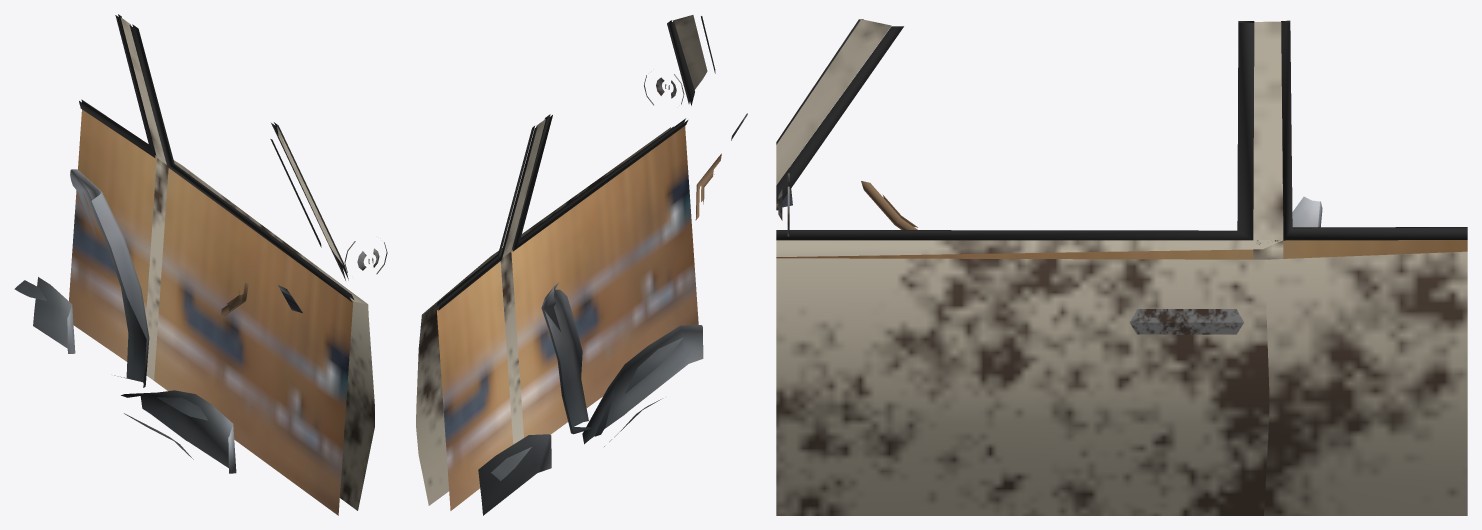
File: right.glb
3 renders of one model, left to right at view 1: azimuth 30°, elevation 25°; view 2: azimuth 150°, elevation 25°; view 3: azimuth 270°, elevation 25°, orthographic. The views are drawn at different scales.
Size of the model in its own units: 0.3198 by 1 by 1.34.
1 material, 1 textured.
